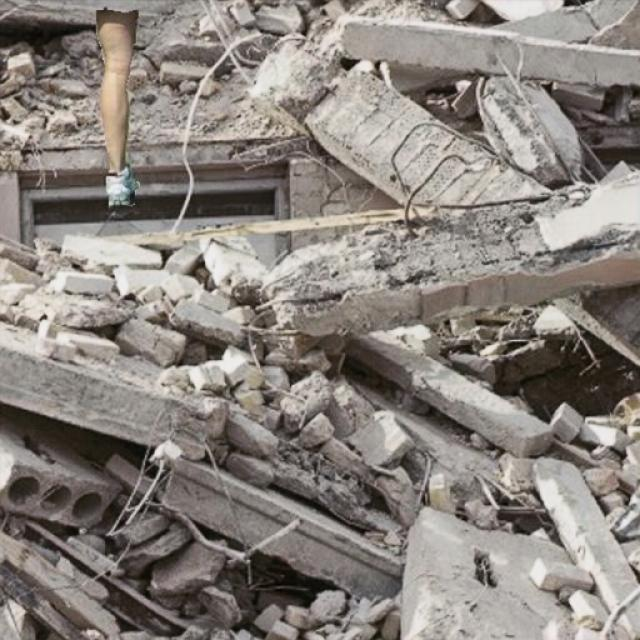Person in Rubble: (96, 8, 139, 206)
